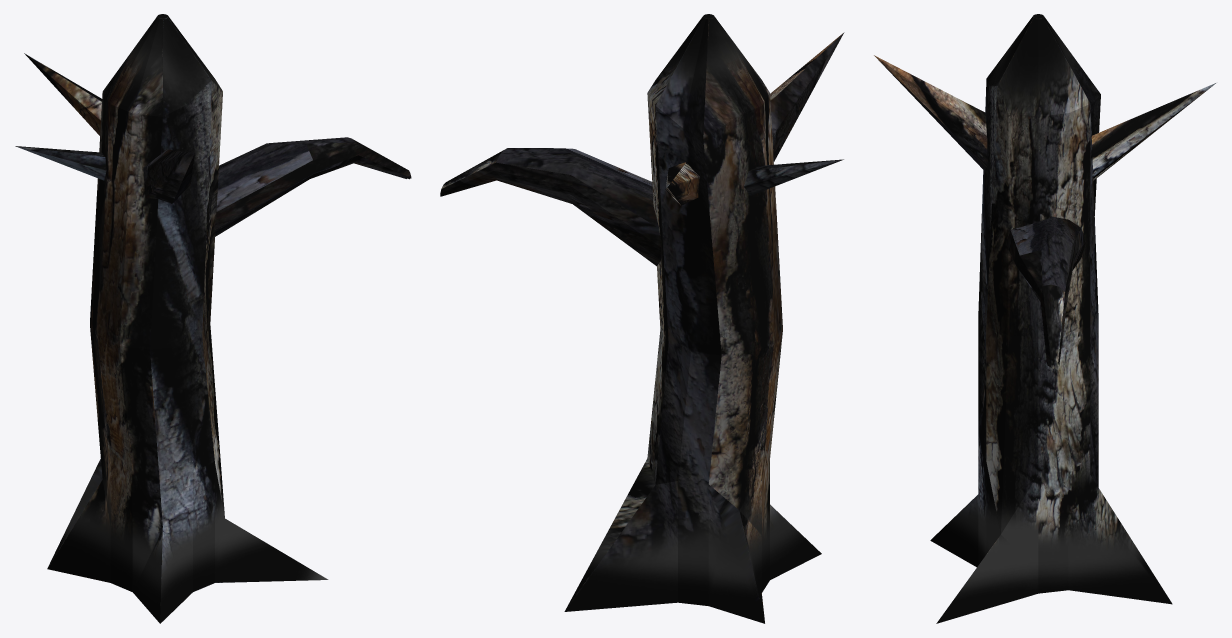
Rendered from Tree 1.fbx.
3 views of the same model, side by side, from view 1: azimuth 30°, elevation 25°; view 2: azimuth 150°, elevation 25°; view 3: azimuth 270°, elevation 25° (orthographic). The views are drawn at different scales.
Visible parts, largest first — view 1: Cylinder.001; view 2: Cylinder.001; view 3: Cylinder.001.
Boxes of the visible parts, left/top/right/bottom form: Cylinder.001: left=15, top=14, right=411, bottom=623; Cylinder.001: left=440, top=14, right=844, bottom=623; Cylinder.001: left=874, top=14, right=1215, bottom=623.
Bounding box in the file's own units: 726 × 974 × 550.
